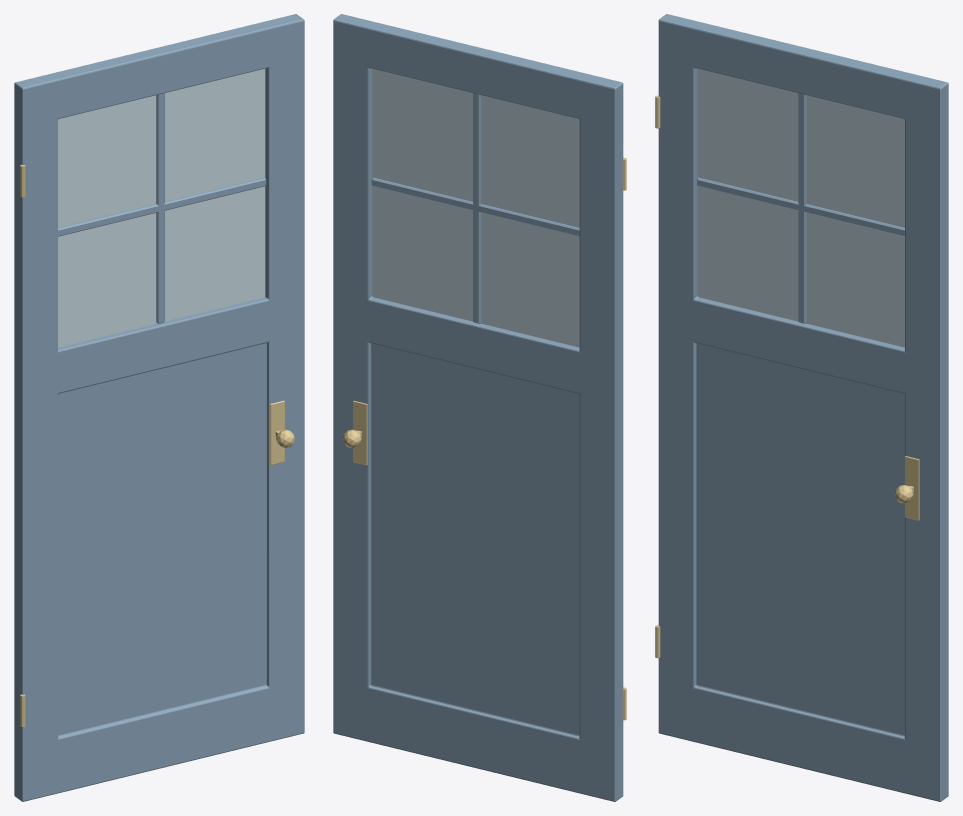
The model's file is door_leaf_entrance.glb.
3 views of the same model, side by side, from view 1: azimuth 30°, elevation 25°; view 2: azimuth 150°, elevation 25°; view 3: azimuth 330°, elevation 25° (orthographic).
Visible parts, largest first — view 1: door_leaf_entrance_door, door_leaf_entrance_glass, door_leaf_entrance_brass; view 2: door_leaf_entrance_door, door_leaf_entrance_glass, door_leaf_entrance_brass; view 3: door_leaf_entrance_door, door_leaf_entrance_glass, door_leaf_entrance_brass.
Boxes of the visible parts, left/top/right/bottom form: door_leaf_entrance_door: left=14, top=14, right=304, bottom=801; door_leaf_entrance_glass: left=58, top=68, right=265, bottom=347; door_leaf_entrance_brass: left=20, top=164, right=294, bottom=726; door_leaf_entrance_door: left=333, top=14, right=623, bottom=801; door_leaf_entrance_glass: left=372, top=68, right=579, bottom=347; door_leaf_entrance_brass: left=343, top=157, right=626, bottom=720; door_leaf_entrance_door: left=658, top=14, right=948, bottom=801; door_leaf_entrance_glass: left=697, top=68, right=904, bottom=347; door_leaf_entrance_brass: left=655, top=95, right=919, bottom=658.
Size of the model in its own units: 0.968 by 2.32 by 0.206.
